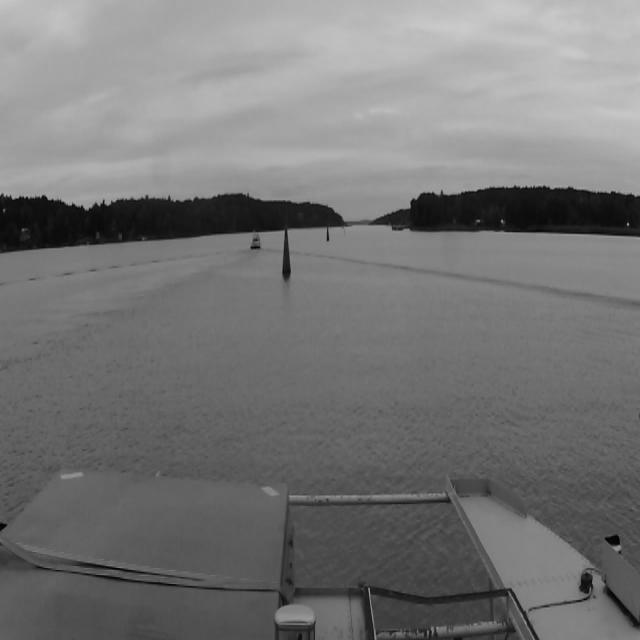buoy: (282, 226, 292, 276), (326, 226, 330, 242)
ship: (250, 233, 262, 251)
